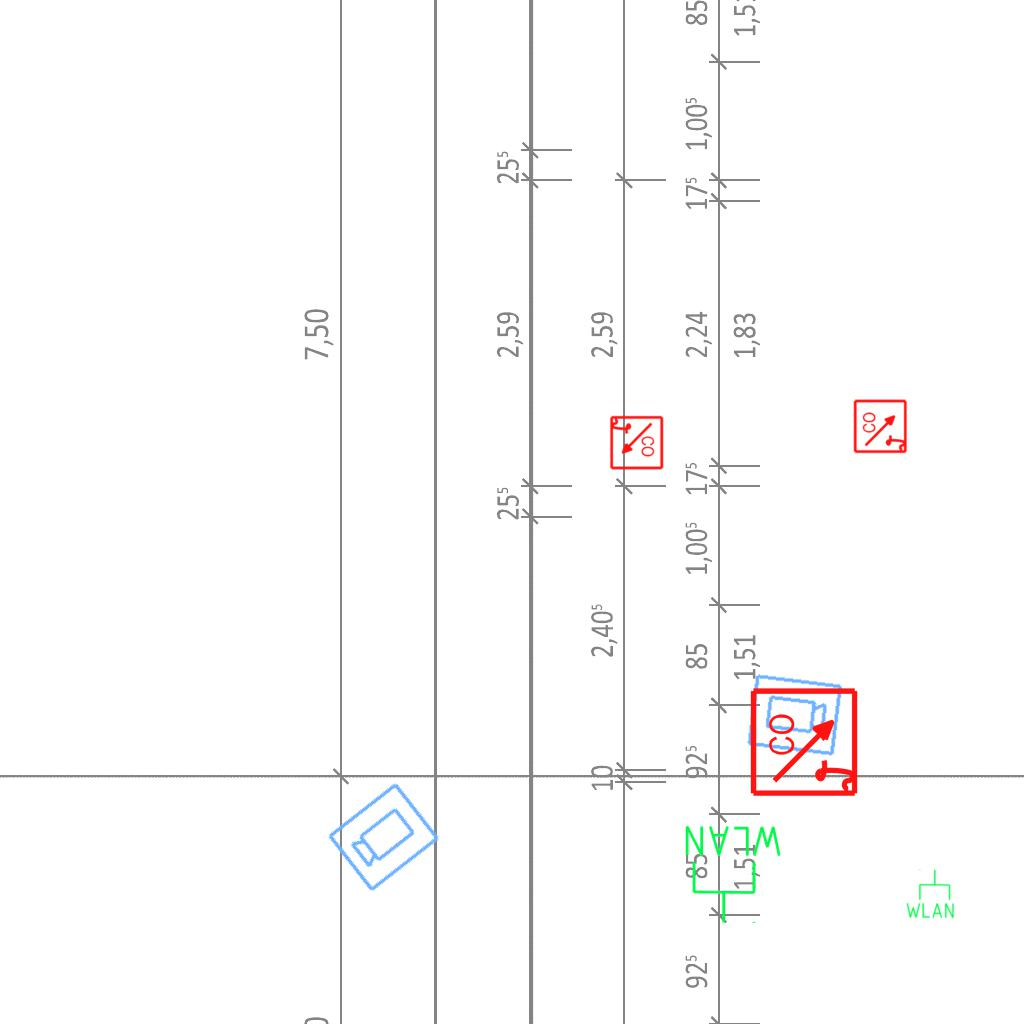KFO_Kamera_mit_Festobjektiv: (323, 778, 444, 895), (744, 671, 845, 760)
ROA_Rauchmelder_optisch_mit_Signalgeber_(Sockelsirene): (749, 685, 862, 798), (608, 415, 664, 471), (853, 398, 909, 454)
WLAN: (681, 822, 786, 926), (904, 868, 956, 920)
